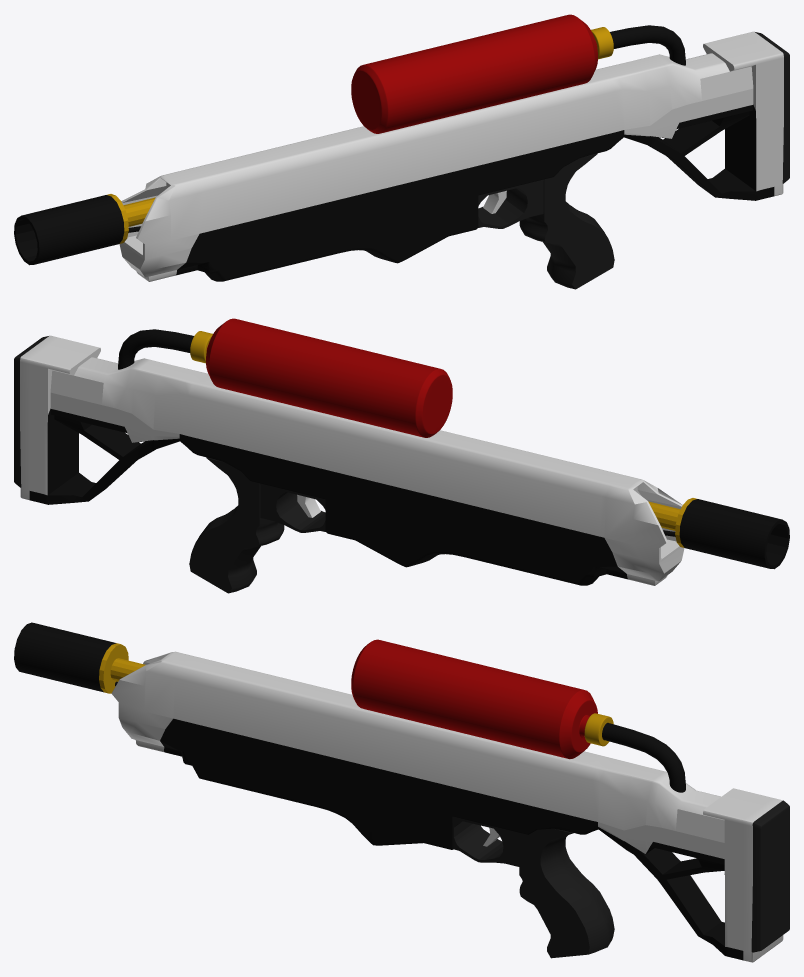
File: FlameThrower.fbx
The picture shows the model from 3 angles, top to bottom: view 1: azimuth 30°, elevation 25°; view 2: azimuth 150°, elevation 25°; view 3: azimuth 330°, elevation 25°; orthographic projection.
Visible parts, largest first — view 1: FlameThrower; view 2: FlameThrower; view 3: FlameThrower.
Boxes of the visible parts, box(x1,y1,x2,y2) form: FlameThrower: box(14, 14, 789, 289); FlameThrower: box(14, 318, 789, 593); FlameThrower: box(14, 622, 789, 962).
Bounding box in the file's own units: 17.41 × 5.78 × 1.42.
